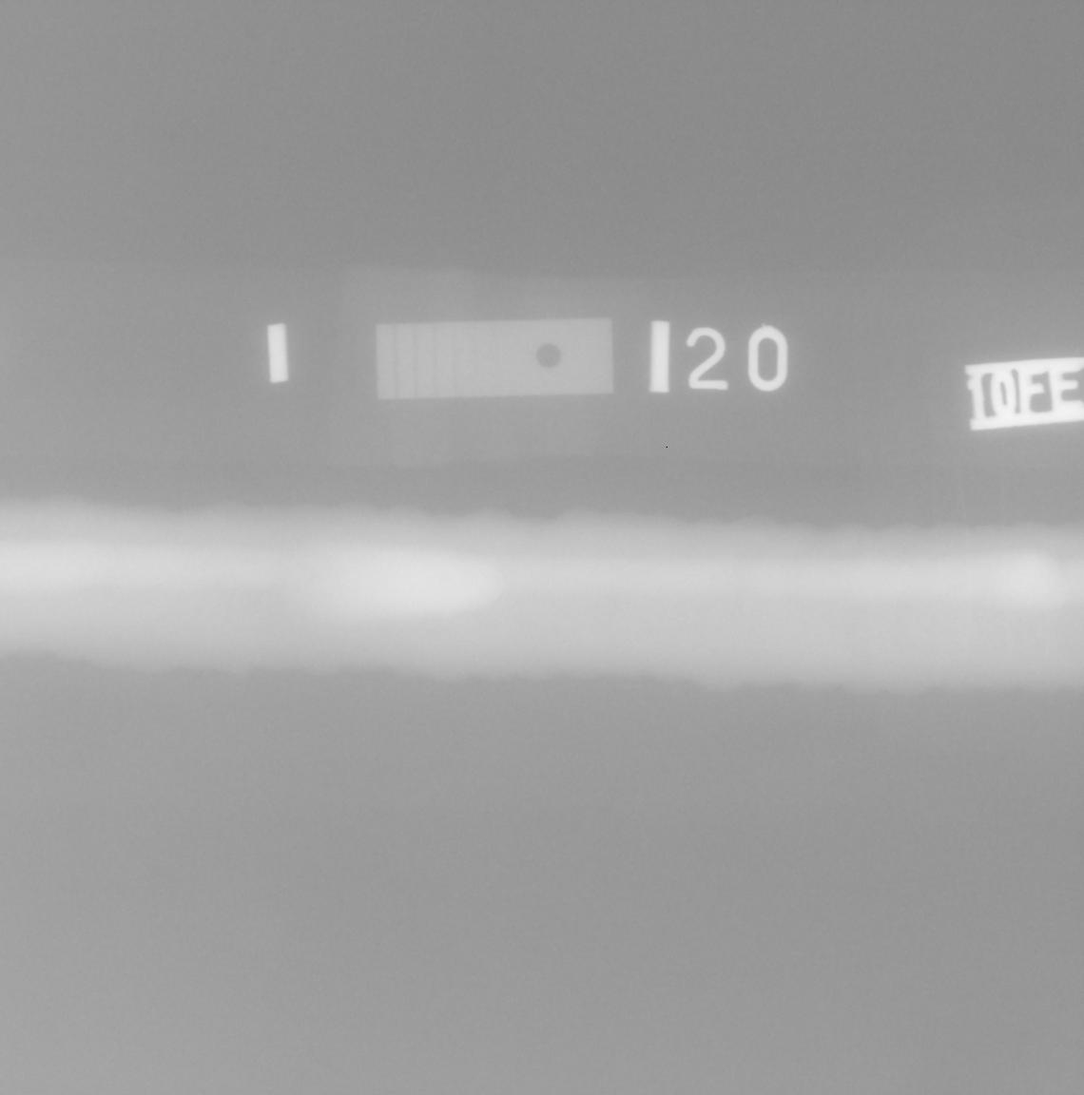Reference Standard 1: (375, 318, 614, 399)
